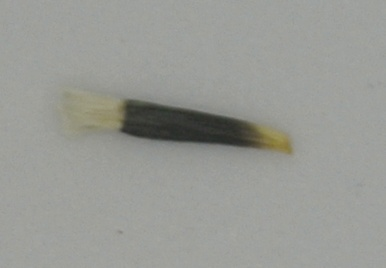เมล็ดดีติดกัน: (58, 87, 295, 159)
